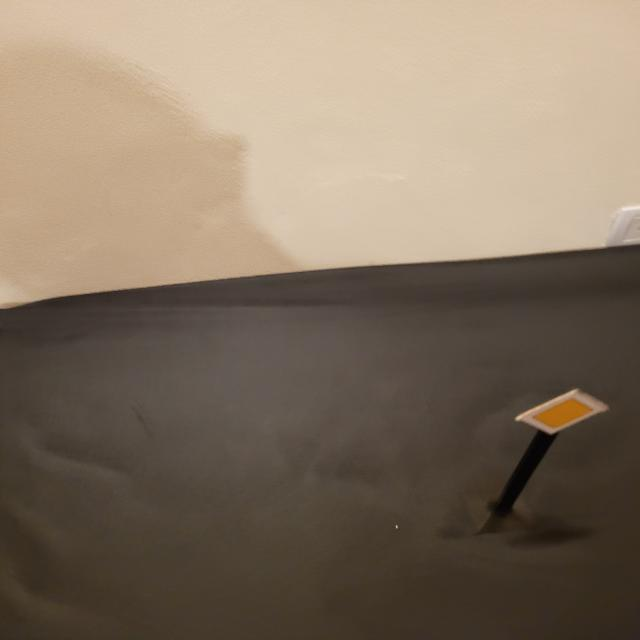priority: (513, 388, 611, 436)
